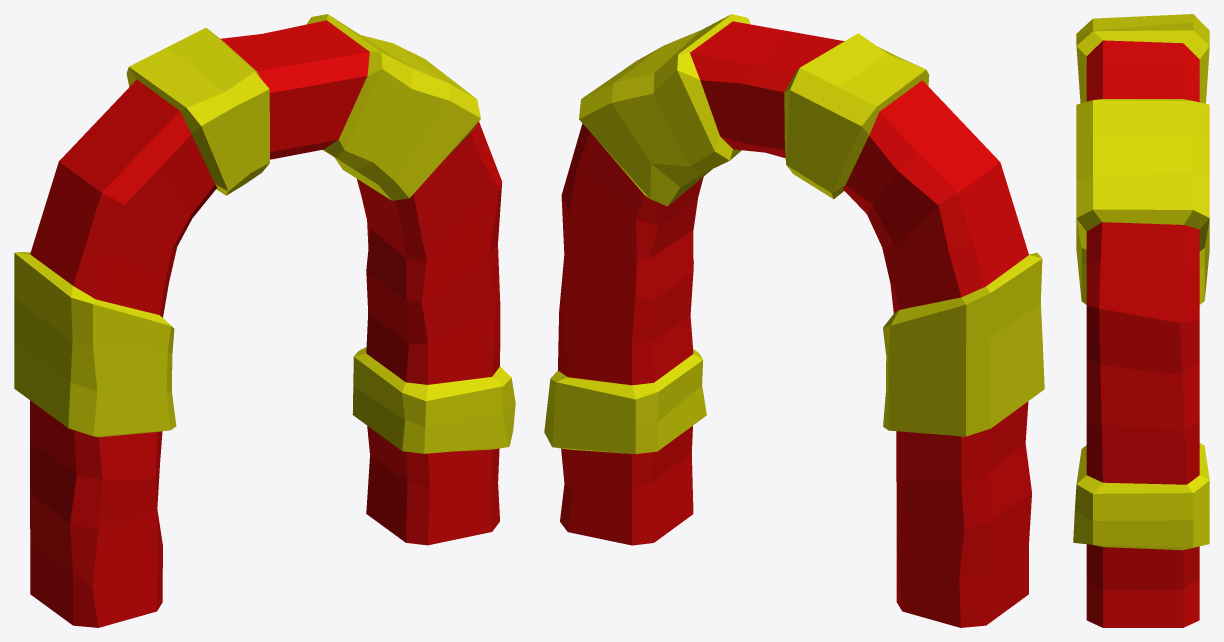
File: Abbie - Portal.fbx
3 views of the same model, side by side, from view 1: azimuth 30°, elevation 25°; view 2: azimuth 150°, elevation 25°; view 3: azimuth 270°, elevation 25° (orthographic). The views are drawn at different scales.
Parts seen in each view (by area): view 1: arch3; view 2: arch3; view 3: arch3.
Boxes of the visible parts, x1,y1,x2,y2 form: arch3: (14,14,515,627); arch3: (544,14,1044,627); arch3: (1073,14,1209,627).
Size of the model in its own units: 1.2 by 1.33 by 0.3381.
